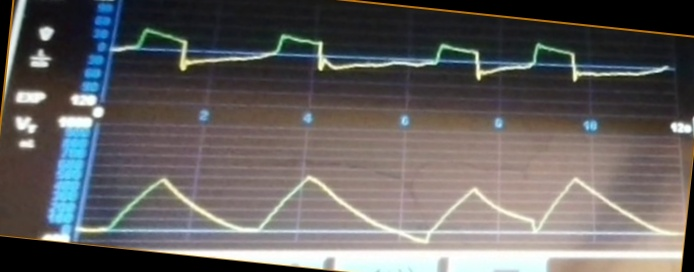Premature_cycling Flow: (114, 26, 668, 97)
Premature_cycling Volume: (82, 171, 681, 248)
